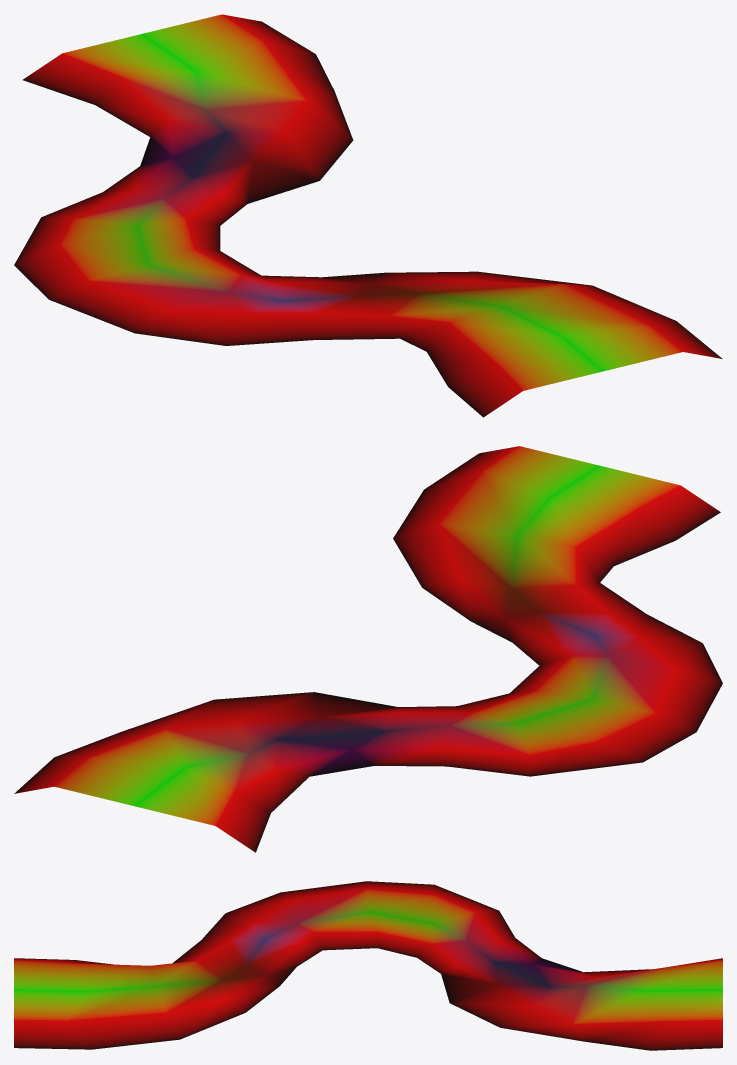
Rendered from Section_WayLine07_Swamp_Terrain.fbx.
The picture shows the model from 3 angles, top to bottom: view 1: azimuth 30°, elevation 25°; view 2: azimuth 150°, elevation 25°; view 3: azimuth 270°, elevation 25°; orthographic projection. The views are drawn at different scales.
Parts seen in each view (by area): view 1: Section_WayLine07_Swamp_Terrain; view 2: Section_WayLine07_Swamp_Terrain; view 3: Section_WayLine07_Swamp_Terrain.
Part boxes in pixels (x1,y1,x2,y2): Section_WayLine07_Swamp_Terrain: (14,14,722,417); Section_WayLine07_Swamp_Terrain: (14,446,722,852); Section_WayLine07_Swamp_Terrain: (14,881,722,1050).
Bounding box in the file's own units: 2829 × 101 × 5000.
